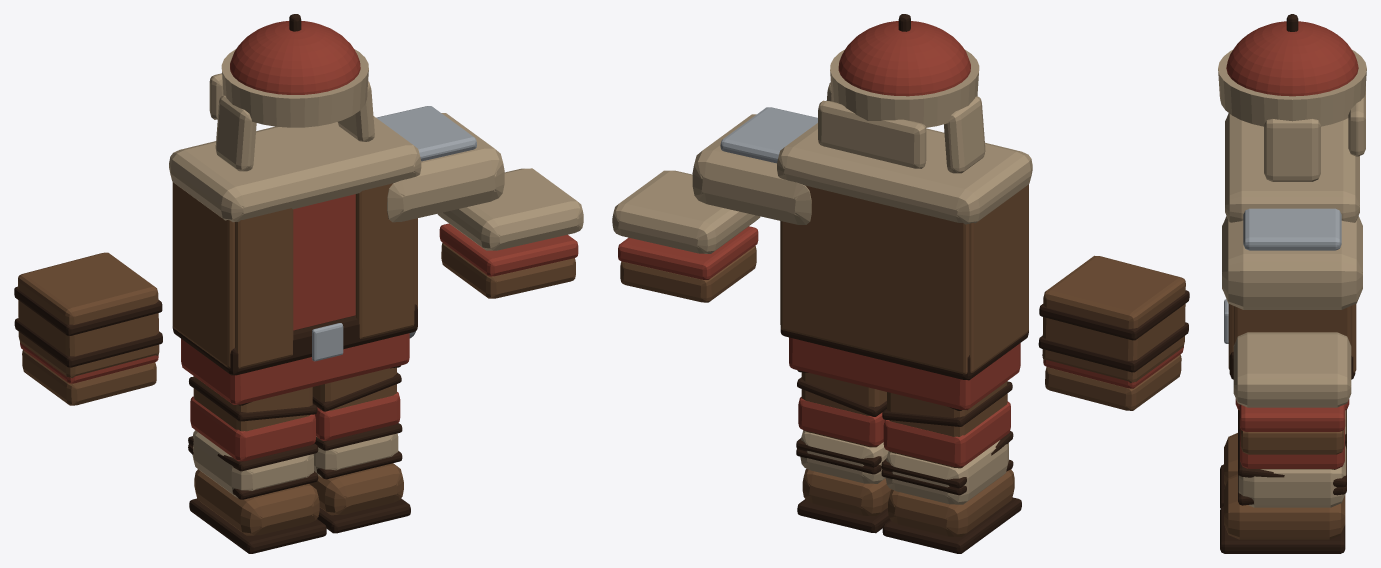
Rendered from WoodcutterArmorSet.ready.glb.
The picture shows the model from 3 angles, left to right: view 1: azimuth 30°, elevation 25°; view 2: azimuth 150°, elevation 25°; view 3: azimuth 270°, elevation 25°; orthographic projection.
Parts seen in each view (by area): view 1: Chestplate, RightLowerArm, Helmet, LeftLowerArm, RightBoots, LeftUpperArm, LeftBoots, RightLeggings, LeftLeggings; view 2: Chestplate, Helmet, RightLowerArm, LeftLowerArm, RightBoots, LeftUpperArm, LeftBoots, RightLeggings, LeftLeggings; view 3: Helmet, LeftLowerArm, LeftUpperArm, Chestplate, LeftBoots, LeftLeggings, RightBoots.
Part boxes in pixels (box(x1,y1,x2,y2)): Chestplate: box(169, 116, 421, 404); RightLowerArm: box(14, 252, 162, 405); Helmet: box(209, 14, 374, 171); LeftLowerArm: box(437, 168, 583, 298); RightBoots: box(188, 430, 326, 553); LeftUpperArm: box(376, 106, 504, 222); LeftBoots: box(309, 423, 410, 533); RightLeggings: box(189, 376, 317, 461); LeftLeggings: box(312, 365, 401, 440); Chestplate: box(777, 123, 1032, 410); Helmet: box(818, 14, 985, 173); RightLowerArm: box(1038, 255, 1189, 410); LeftLowerArm: box(612, 170, 760, 302); RightBoots: box(881, 431, 1021, 553); LeftUpperArm: box(692, 107, 817, 224); LeftBoots: box(796, 430, 891, 533); RightLeggings: box(882, 381, 1012, 468); LeftLeggings: box(797, 370, 886, 447); Helmet: box(1218, 14, 1366, 181); LeftLowerArm: box(1233, 332, 1351, 454); LeftUpperArm: box(1222, 208, 1362, 309); Chestplate: box(1224, 113, 1359, 410); LeftBoots: box(1220, 432, 1346, 553); LeftLeggings: box(1240, 427, 1344, 469); RightBoots: box(1220, 410, 1346, 508).
Size of the model in its own units: 6.18 by 5.63 by 1.52.
Materials: 1 (1 with a texture image).
